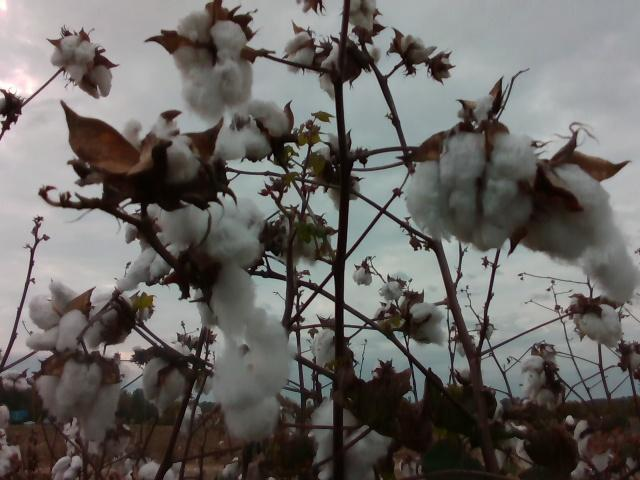cotton_ready: (192, 265, 291, 442), (404, 128, 537, 252), (520, 161, 638, 299), (174, 10, 257, 121), (36, 354, 124, 446), (150, 191, 264, 261), (312, 399, 392, 480), (124, 119, 204, 187), (217, 97, 292, 165), (119, 215, 186, 287), (27, 277, 90, 351), (50, 33, 114, 99), (314, 129, 363, 206), (141, 344, 192, 416), (88, 285, 136, 351), (566, 296, 624, 349), (274, 213, 327, 266), (400, 295, 448, 347), (519, 355, 555, 407), (319, 38, 348, 100), (311, 328, 345, 374), (284, 32, 315, 74)
